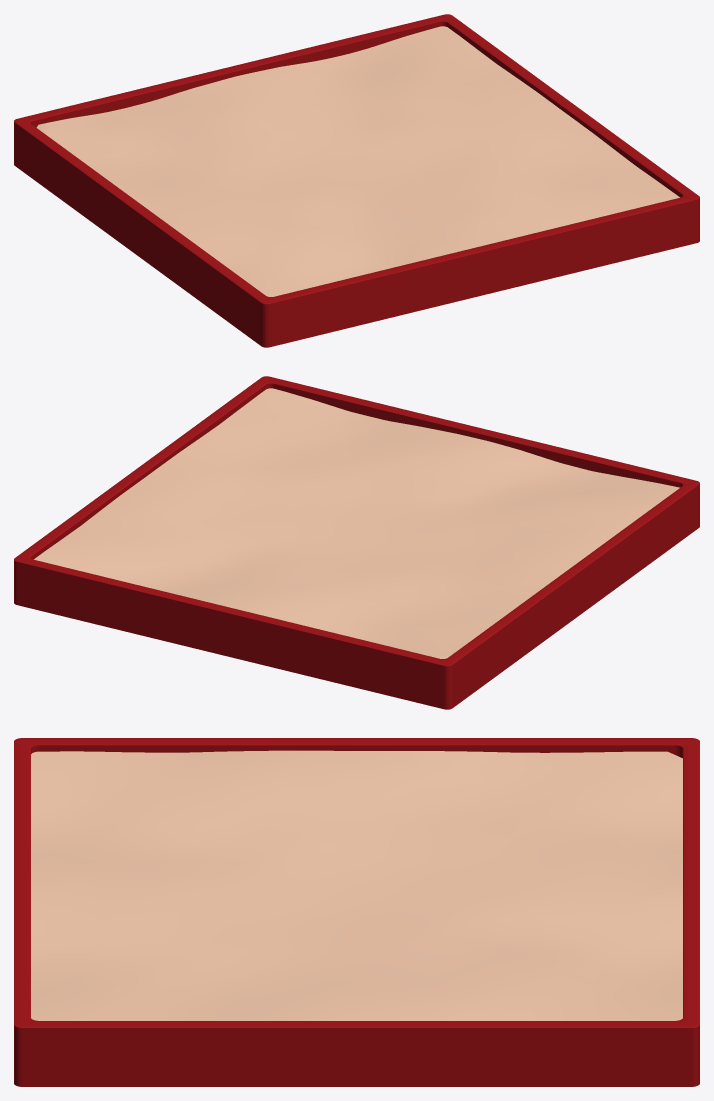
File: ground_.fbx
The picture shows the model from 3 angles, top to bottom: view 1: azimuth 30°, elevation 25°; view 2: azimuth 150°, elevation 25°; view 3: azimuth 270°, elevation 25°; orthographic projection. The views are drawn at different scales.
Visible parts, largest first — view 1: Cube.001, Cube; view 2: Cube.001, Cube; view 3: Cube.001, Cube.
Boxes of the visible parts, <box> form: Cube.001: <box>36,26,679,296</box>; Cube: <box>14,14,699,347</box>; Cube.001: <box>34,388,679,658</box>; Cube: <box>14,376,699,709</box>; Cube.001: <box>31,750,682,1020</box>; Cube: <box>14,738,699,1086</box>.
Size of the model in its own units: 742 by 72.06 by 742.
Materials: 1 (1 with a texture image).
